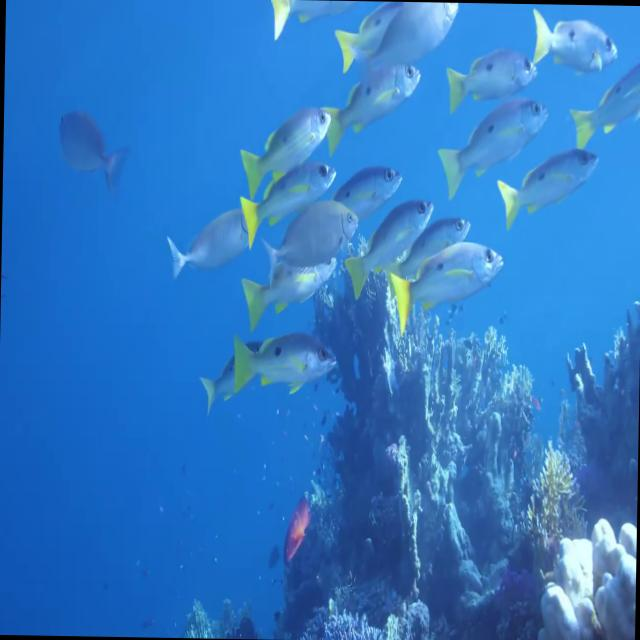fish: (341, 194, 436, 303), (350, 0, 462, 90), (443, 96, 551, 188), (389, 240, 503, 326), (326, 58, 424, 156), (496, 145, 600, 227), (240, 152, 336, 236), (238, 106, 333, 189), (165, 202, 257, 286), (264, 200, 356, 283), (244, 246, 336, 324), (574, 49, 640, 151), (235, 332, 338, 396), (445, 48, 538, 114), (530, 7, 618, 74), (336, 158, 406, 230)
